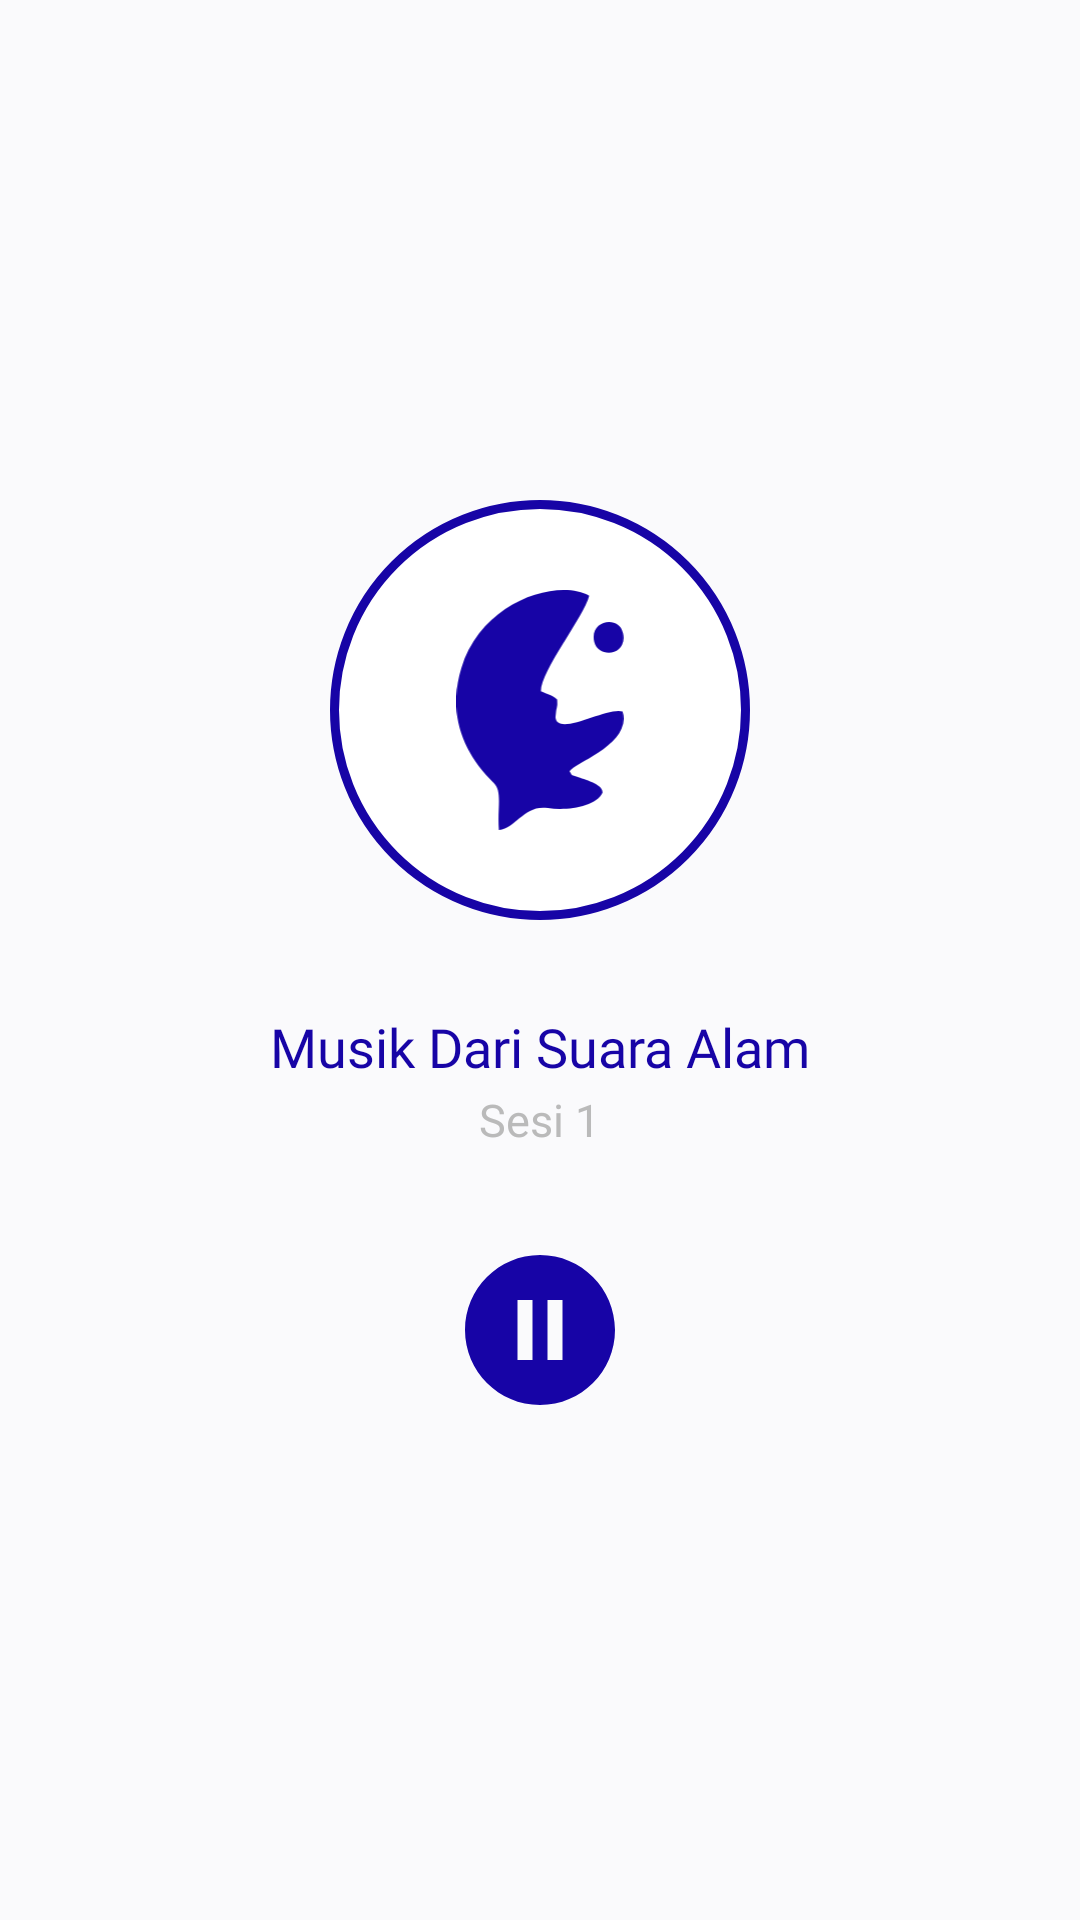

Icon click points for this 1080x1920 phone screenshot, format [x,y]:
pause circle: [540,1330]
